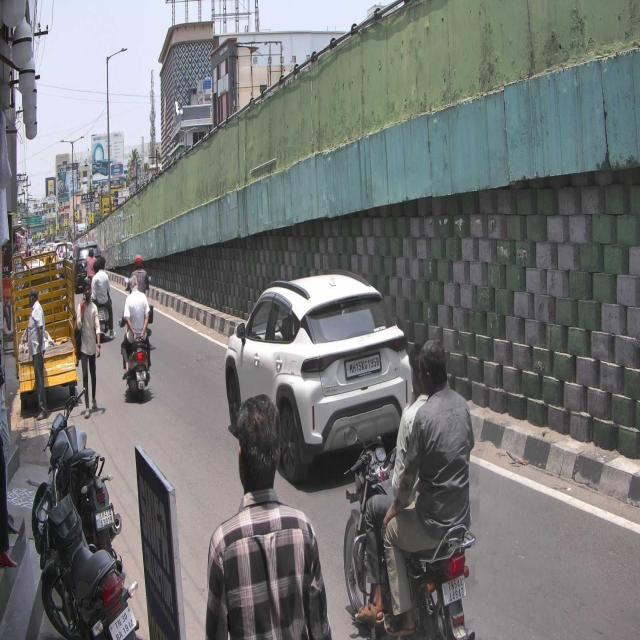double_rider: (344, 335, 481, 640)
